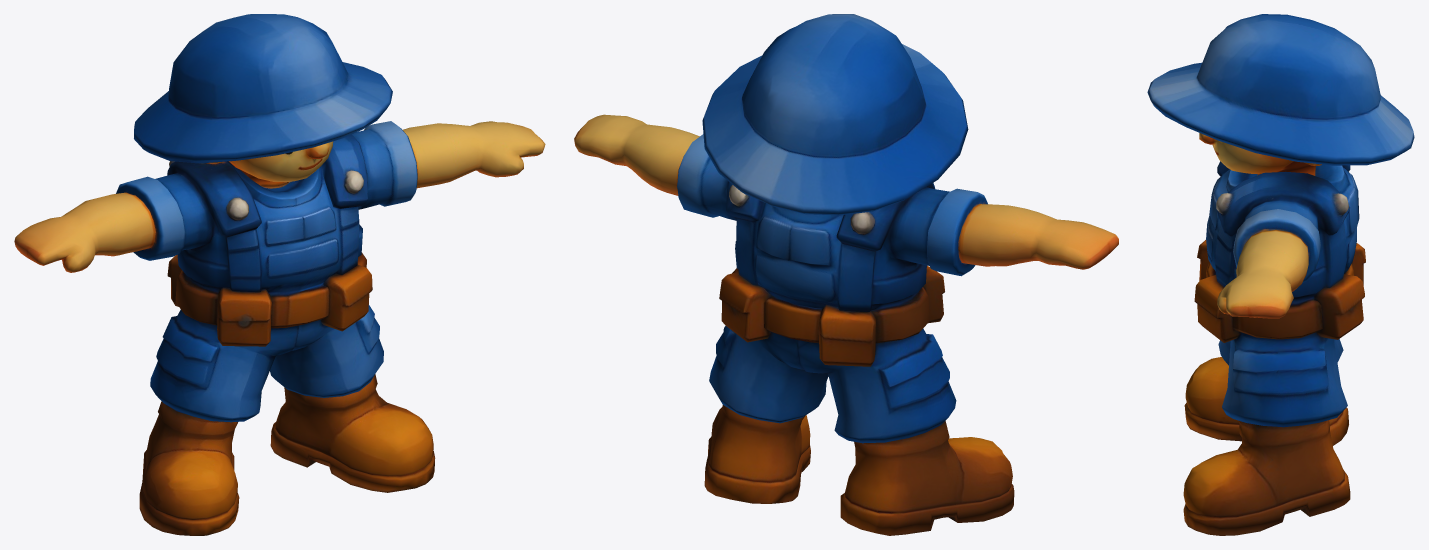
File: infantry-shotgunner-body.glb
The picture shows the model from 3 angles, left to right: view 1: azimuth 30°, elevation 25°; view 2: azimuth 150°, elevation 25°; view 3: azimuth 270°, elevation 25°; orthographic projection. The views are drawn at different scales.
Parts seen in each view (by area): view 1: tripo_node_4582013f-1dca-47de-959a-e6cefa248645; view 2: tripo_node_4582013f-1dca-47de-959a-e6cefa248645; view 3: tripo_node_4582013f-1dca-47de-959a-e6cefa248645.
Boxes of the visible parts, x1,y1,x2,y2 form: tripo_node_4582013f-1dca-47de-959a-e6cefa248645: (14, 14, 545, 535); tripo_node_4582013f-1dca-47de-959a-e6cefa248645: (574, 14, 1118, 535); tripo_node_4582013f-1dca-47de-959a-e6cefa248645: (1147, 14, 1414, 535).
Size of the model in its own units: 1.73 by 1.5 by 0.8025.
1 material, 1 textured.
